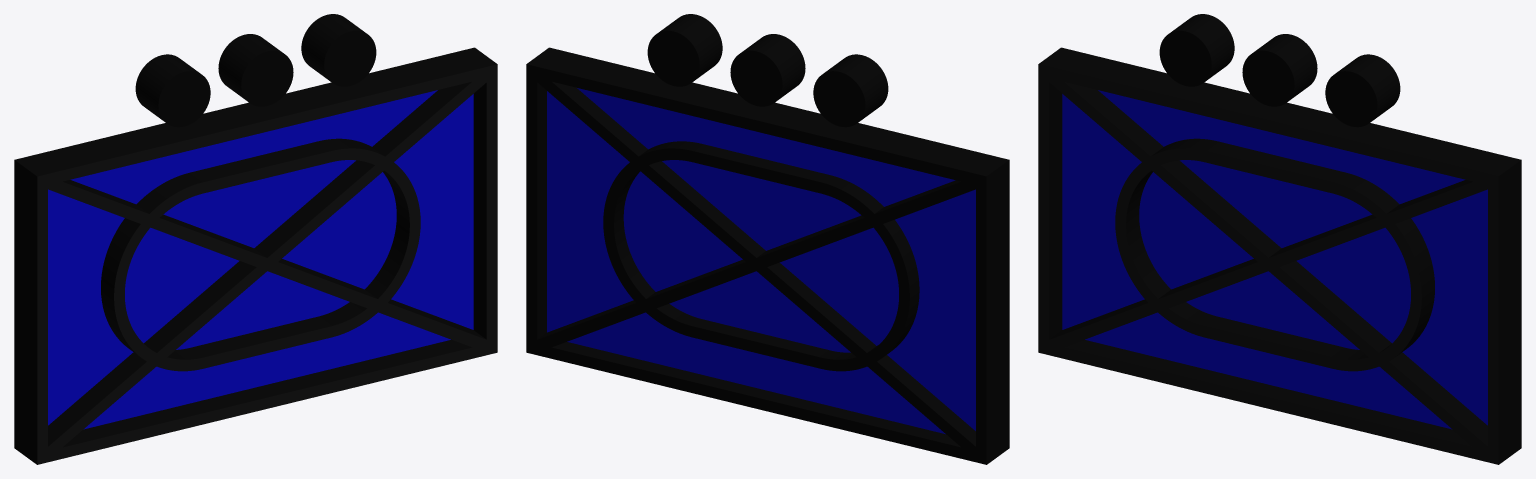
File: ORBAT_-_3.obj
The picture shows the model from 3 angles, left to right: view 1: azimuth 30°, elevation 25°; view 2: azimuth 150°, elevation 25°; view 3: azimuth 330°, elevation 25°; orthographic projection.
Parts seen in each view (by area): view 1: SM_ORBAT_-_3_path1763-2.255; view 2: SM_ORBAT_-_3_path1763-2.255; view 3: SM_ORBAT_-_3_path1763-2.255.
Boxes of the visible parts, x1,y1,x2,y2 form: SM_ORBAT_-_3_path1763-2.255: [14, 14, 497, 464]; SM_ORBAT_-_3_path1763-2.255: [526, 14, 1009, 464]; SM_ORBAT_-_3_path1763-2.255: [1038, 14, 1521, 464].
Size of the model in its own units: 1.21 by 0.8948 by 0.1034.
